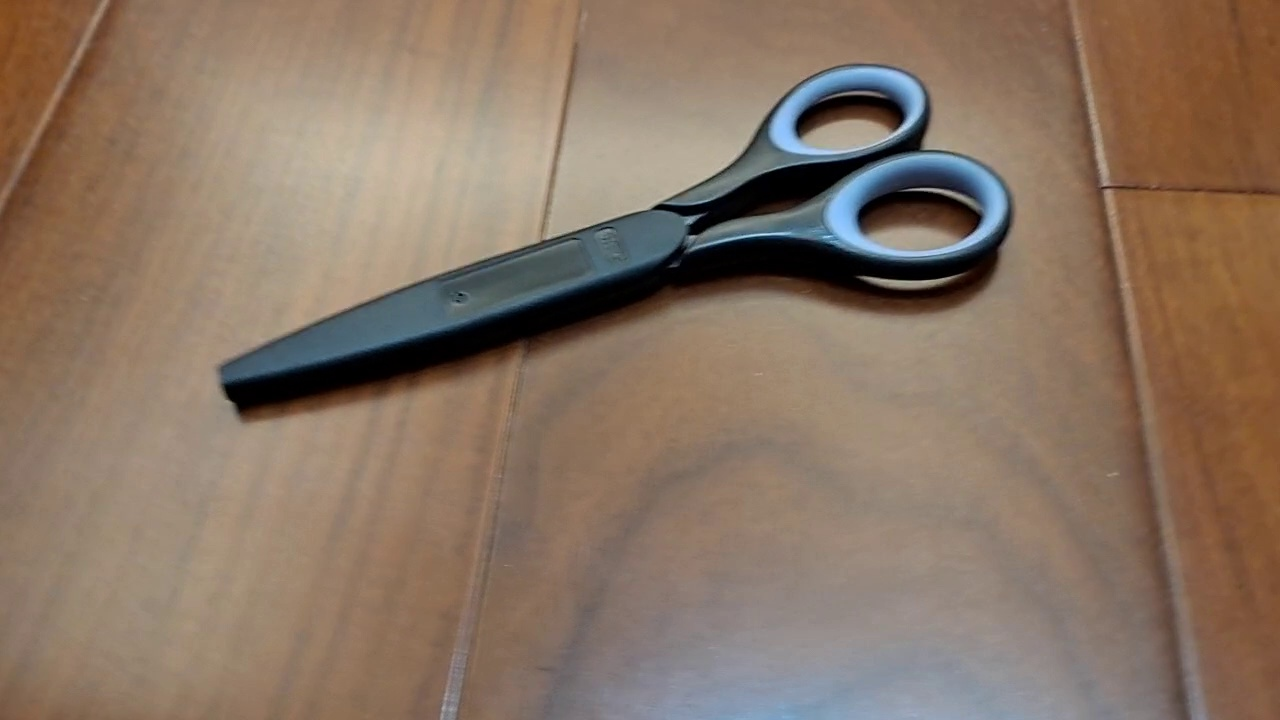scissors: (213, 60, 1017, 414)
